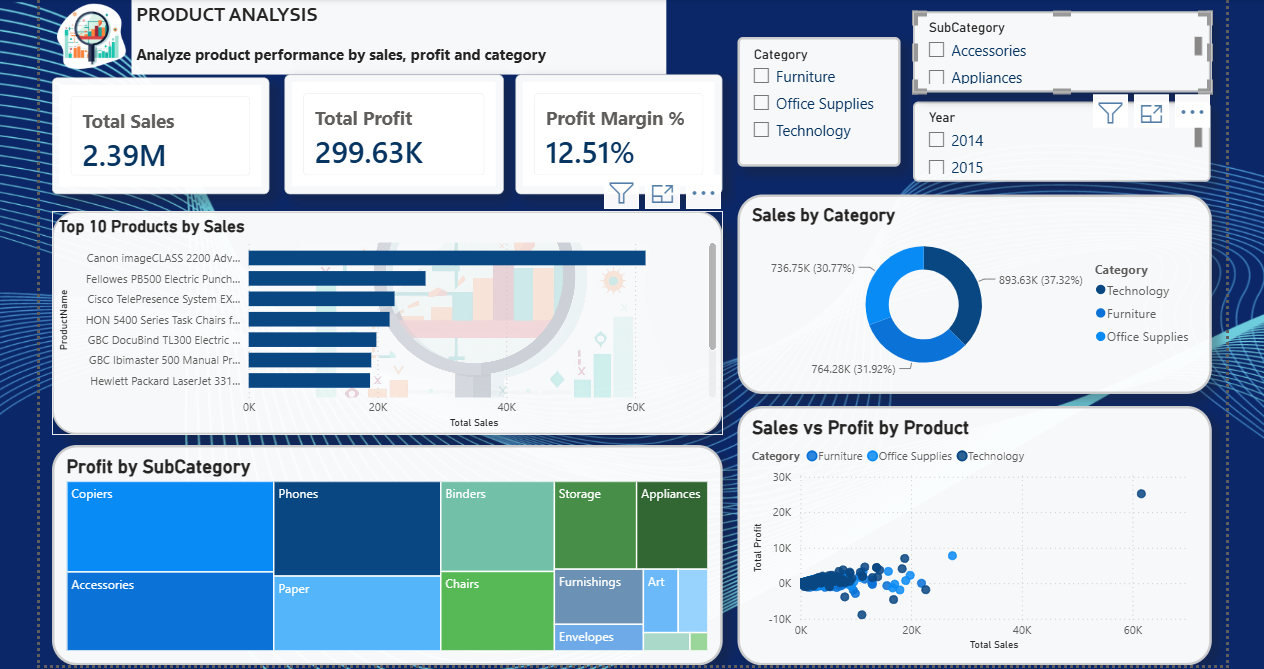

What the dashboard file says about the page in this screenshot:
{"tool":"powerbi","page":{"name":"Product Analysis","canvas":[1280,720],"ordinal":1},"visuals":[{"type":"textbox","box":[98.6,0,577.4,82.7],"z":0},{"type":"image","box":[12.7,0,85.9,82.7],"z":1000},{"type":"cardVisual","fields":{"Data":["FactSales.Total Sales"]},"box":[13,85.8,234.8,126.3],"z":2000},{"type":"cardVisual","fields":{"Data":["FactSales.Total Profit"]},"box":[263.9,82.6,236.4,129.5],"z":3000},{"type":"cardVisual","fields":{"Data":["FactSales.Profit Margin %"]},"box":[513.3,82.6,223.5,129.5],"z":4000},{"type":"clusteredBarChart","title":"Top 10 Products by Sales","fields":{"Category":["DimProduct.ProductName"],"Y":["FactSales.Total Sales"]},"box":[13,229.9,723.8,241.3],"z":5000},{"type":"donutChart","title":"Sales by Category","fields":{"Category":["DimProduct.Category"],"Y":["FactSales.Total Sales"]},"box":[752.1,211.7,512.1,215.4],"z":6000},{"type":"treemap","title":"Profit by SubCategory","fields":{"Group":["DimProduct.SubCategory"],"Values":["FactSales.Total Profit"]},"box":[13,482.5,723.8,238],"z":7000},{"type":"scatterChart","title":"Sales vs Profit by Product","fields":{"X":["FactSales.Total Sales"],"Y":["FactSales.Total Profit"],"Category":["DimProduct.ProductName"],"Series":["DimProduct.Category"]},"box":[752.1,440.3,512.1,279.7],"z":8000},{"type":"slicer","fields":{"Values":["DimProduct.Category"]},"box":[752.1,41.6,175.7,139.8],"z":9000},{"type":"slicer","fields":{"Values":["DimProduct.SubCategory"]},"box":[943,15.1,321.3,86.9],"z":10000},{"type":"slicer","fields":{"Values":["DimDate.Year"]},"box":[943,111.5,321.3,86.9],"z":11000}]}

Visuals, with their boxes in screenshot pixels (x1, y1, x2, y2):
textbox: bbox=[136, 0, 665, 76]
image: bbox=[58, 0, 136, 76]
cardVisual - FactSales.Total Sales: bbox=[58, 79, 273, 194]
cardVisual - FactSales.Total Profit: bbox=[288, 76, 504, 194]
cardVisual - FactSales.Profit Margin %: bbox=[516, 76, 720, 194]
"Top 10 Products by Sales" clusteredBarChart: bbox=[58, 210, 720, 431]
"Sales by Category" donutChart: bbox=[734, 194, 1203, 391]
"Profit by SubCategory" treemap: bbox=[58, 442, 720, 659]
"Sales vs Profit by Product" scatterChart: bbox=[734, 403, 1203, 659]
slicer - DimProduct.Category: bbox=[734, 38, 895, 166]
slicer - DimProduct.SubCategory: bbox=[909, 14, 1203, 93]
slicer - DimDate.Year: bbox=[909, 102, 1203, 182]
